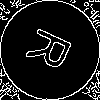R: (25, 25, 82, 77)
